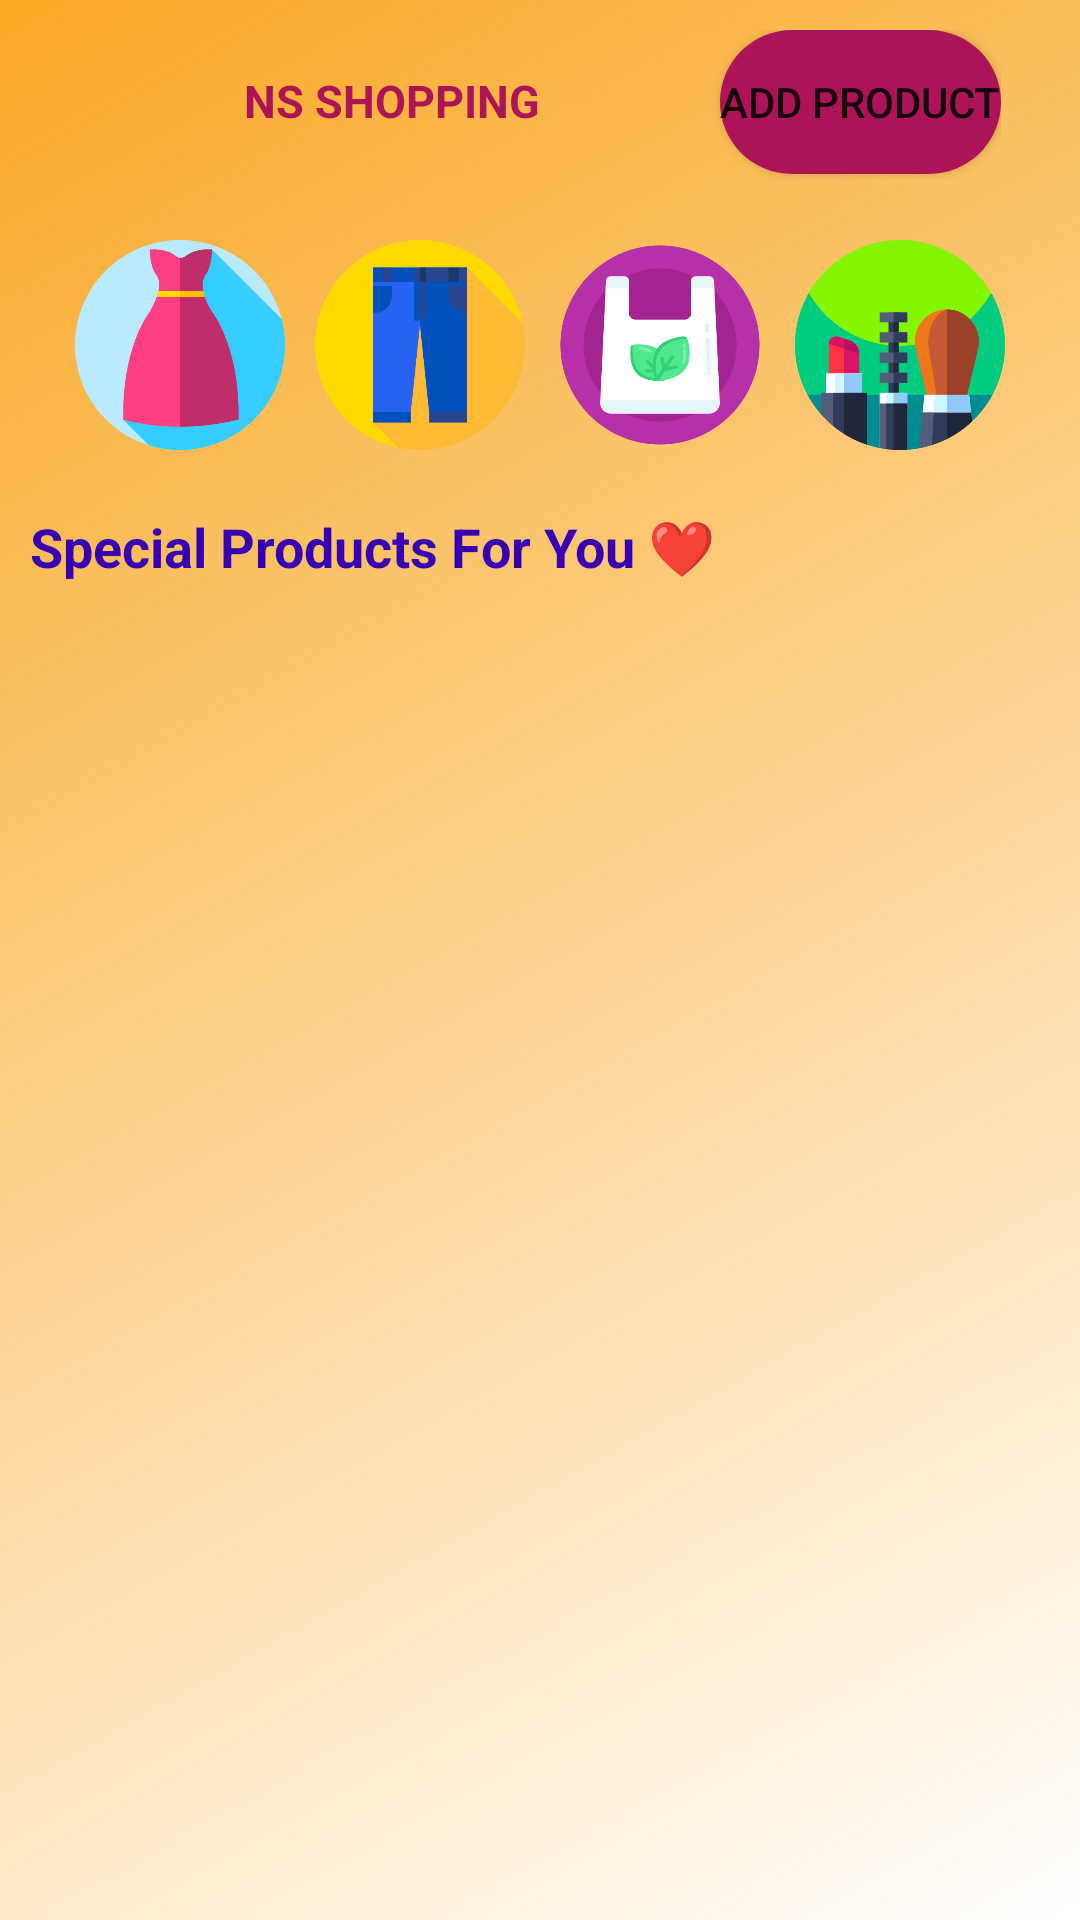

Named icons in this screenshot (1080 x 1920) and their centers, point (x, y):
bag: point (660, 345)
dress: point (180, 345)
jeans: point (420, 345)
makeup: point (900, 345)
